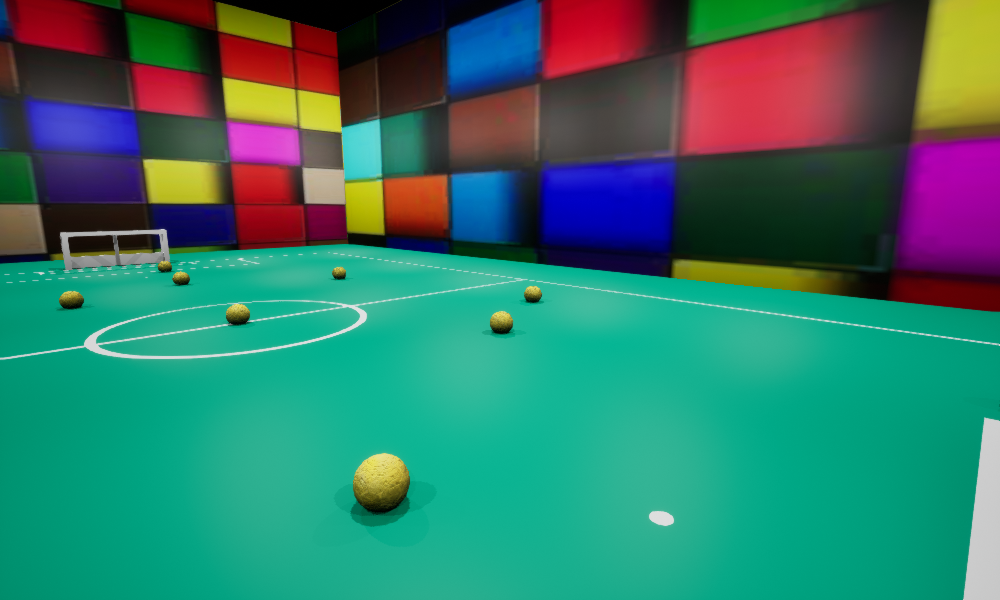b: (353, 453, 409, 511), (490, 311, 512, 333), (226, 304, 249, 324), (59, 291, 83, 308), (524, 286, 541, 301), (172, 271, 189, 283), (332, 267, 345, 278), (157, 261, 171, 271)
g: (60, 229, 169, 269)
